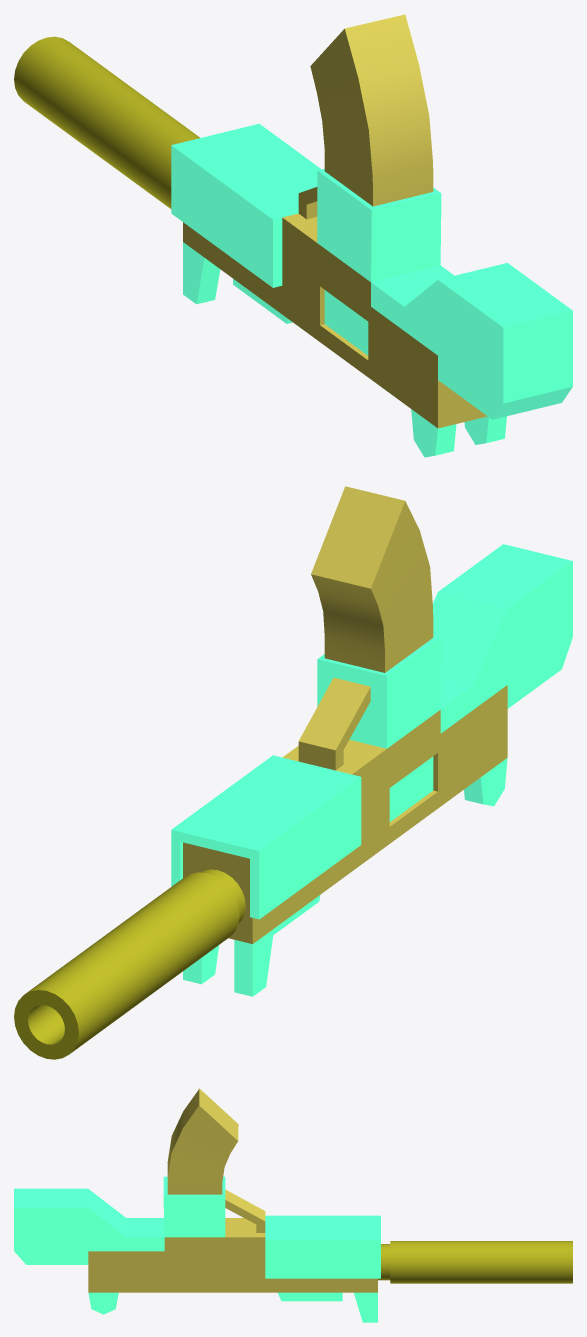
Rendered from GEAR_MACHINE_GUN.fbx.
The picture shows the model from 3 angles, top to bottom: view 1: azimuth 30°, elevation 25°; view 2: azimuth 150°, elevation 25°; view 3: azimuth 270°, elevation 25°; orthographic projection. The views are drawn at different scales.
Visible parts, largest first — view 1: uziGoldLongSilencer; view 2: uziGoldLongSilencer; view 3: uziGoldLongSilencer.
Boxes of the visible parts, box(x1,y1,x2,y2) form: uziGoldLongSilencer: box(14, 14, 572, 457); uziGoldLongSilencer: box(14, 486, 572, 1059); uziGoldLongSilencer: box(14, 1088, 572, 1322).
Size of the model in its own units: 344 by 1418 by 3325.
